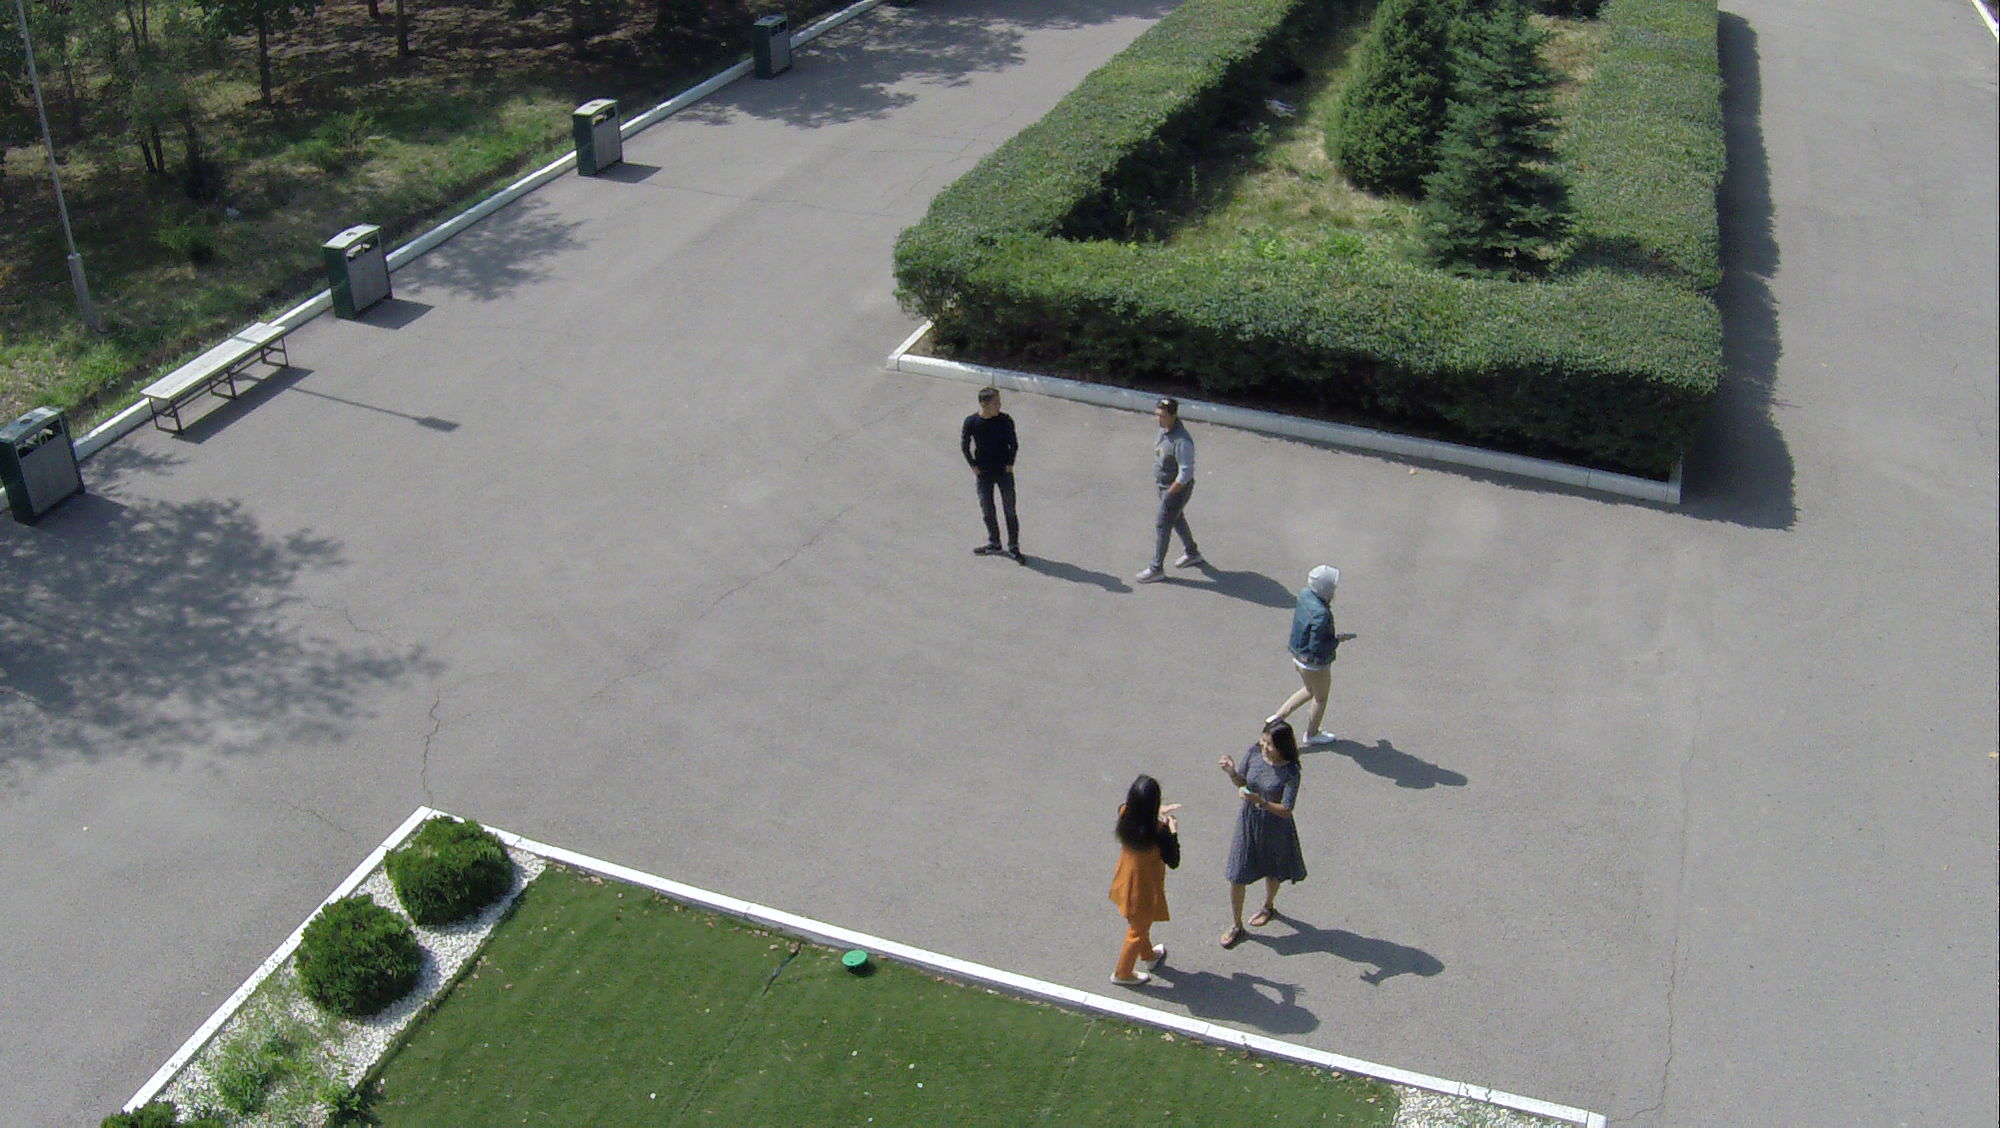person: (1216, 718, 1322, 939), (1101, 770, 1185, 1003), (1249, 564, 1353, 747), (1132, 399, 1226, 593), (955, 383, 1043, 578)
